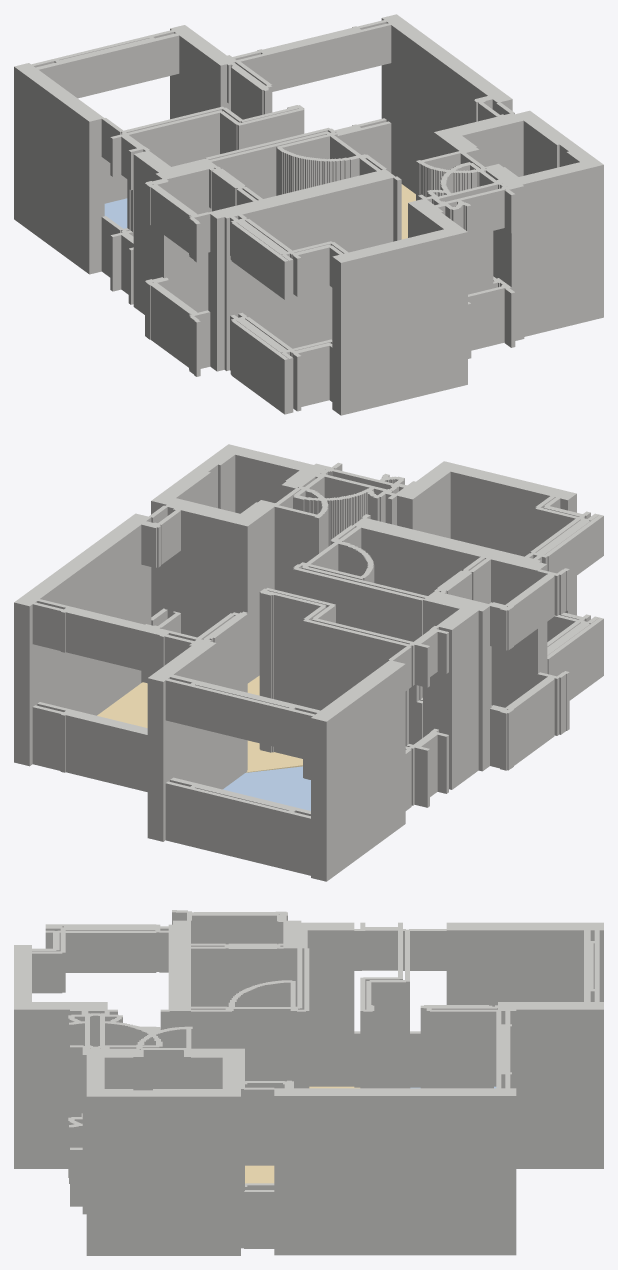
3 renders of one model, top to bottom at view 1: azimuth 30°, elevation 25°; view 2: azimuth 150°, elevation 25°; view 3: azimuth 270°, elevation 25°, orthographic. The views are drawn at different scales.
Parts seen in each view (by area): view 1: walls, room:bedroom:0; view 2: walls, room:living:1, room:bedroom:0; view 3: walls, room:living:1.
Part boxes in pixels (x1,y1,x2,y2): walls: (14,14,603,415); room:bedroom:0: (104,198,127,228); walls: (14,444,603,881); room:living:1: (97,675,302,772); room:bedroom:0: (223,766,310,810); walls: (14,910,603,1255); room:living:1: (245,1086,359,1183).
Bounding box in the file's own units: 7.03 × 2.8 × 9.4.
